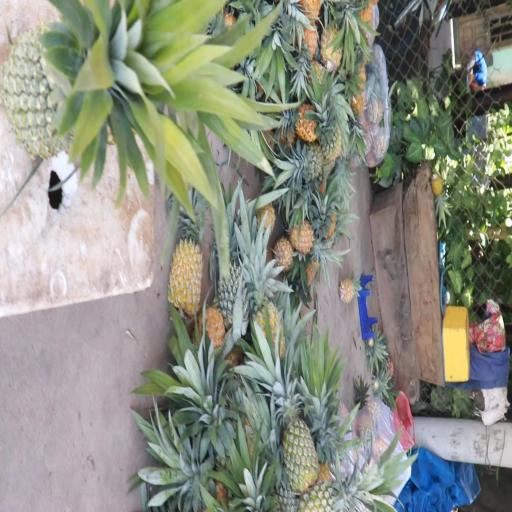------------------------------: (4, 3, 220, 162), (271, 362, 320, 488)
Pineapple - v8 v1: (166, 188, 208, 320), (244, 256, 291, 366), (286, 212, 342, 268), (278, 94, 323, 145)
